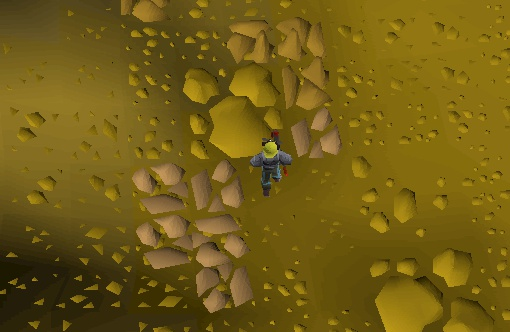granite: (286, 106, 353, 165), (187, 158, 254, 217), (128, 211, 195, 270), (190, 258, 257, 317)
sandstone: (280, 61, 335, 112), (222, 15, 277, 66), (275, 12, 330, 63)
